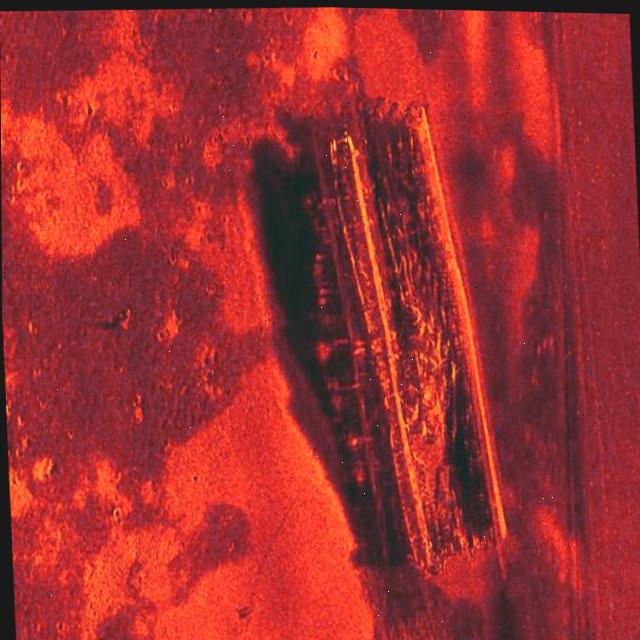shipwreck: (302, 102, 508, 559)
